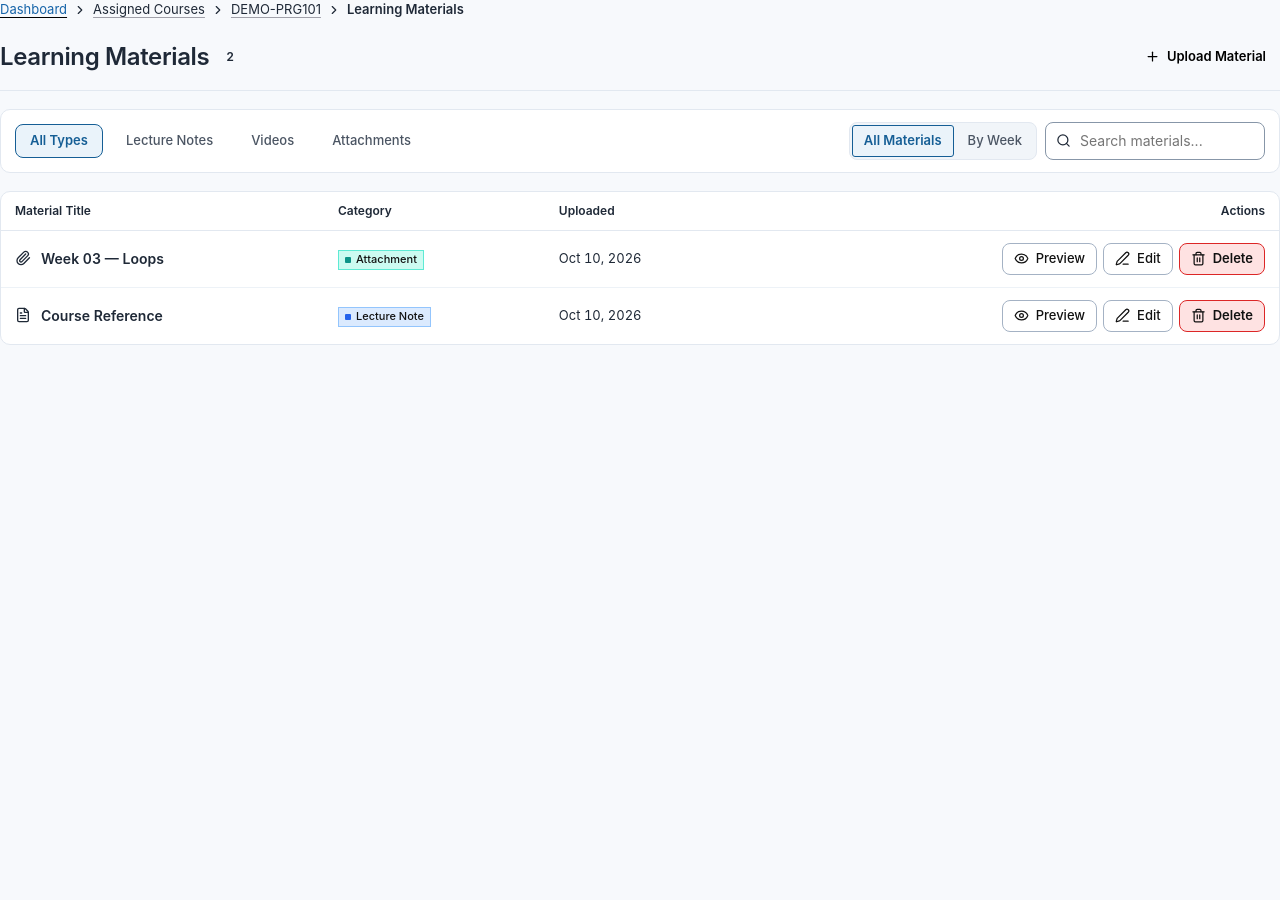
Test: Instructor Workspace Modules (I01 - I05) › groups materials within a course while preserving instructor search and editing
expect the button "Week 03 — Loops" is shown: met, box [41, 248, 164, 269]
Click the button "By Week" at (995, 140), box [956, 124, 1034, 156]
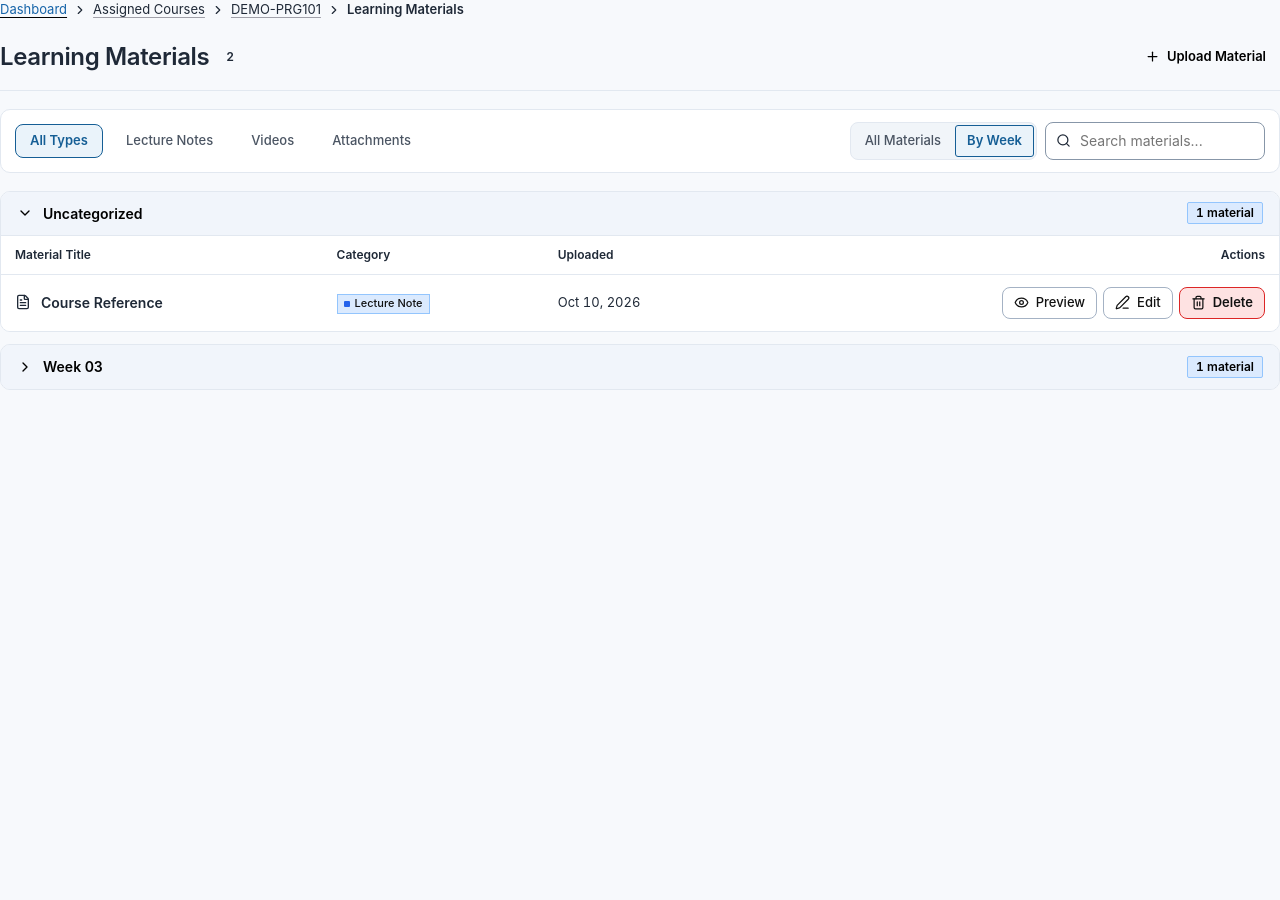
Type "Reference" into the field with placeholder "Search materials..." at (1155, 140), box [1045, 122, 1265, 160]
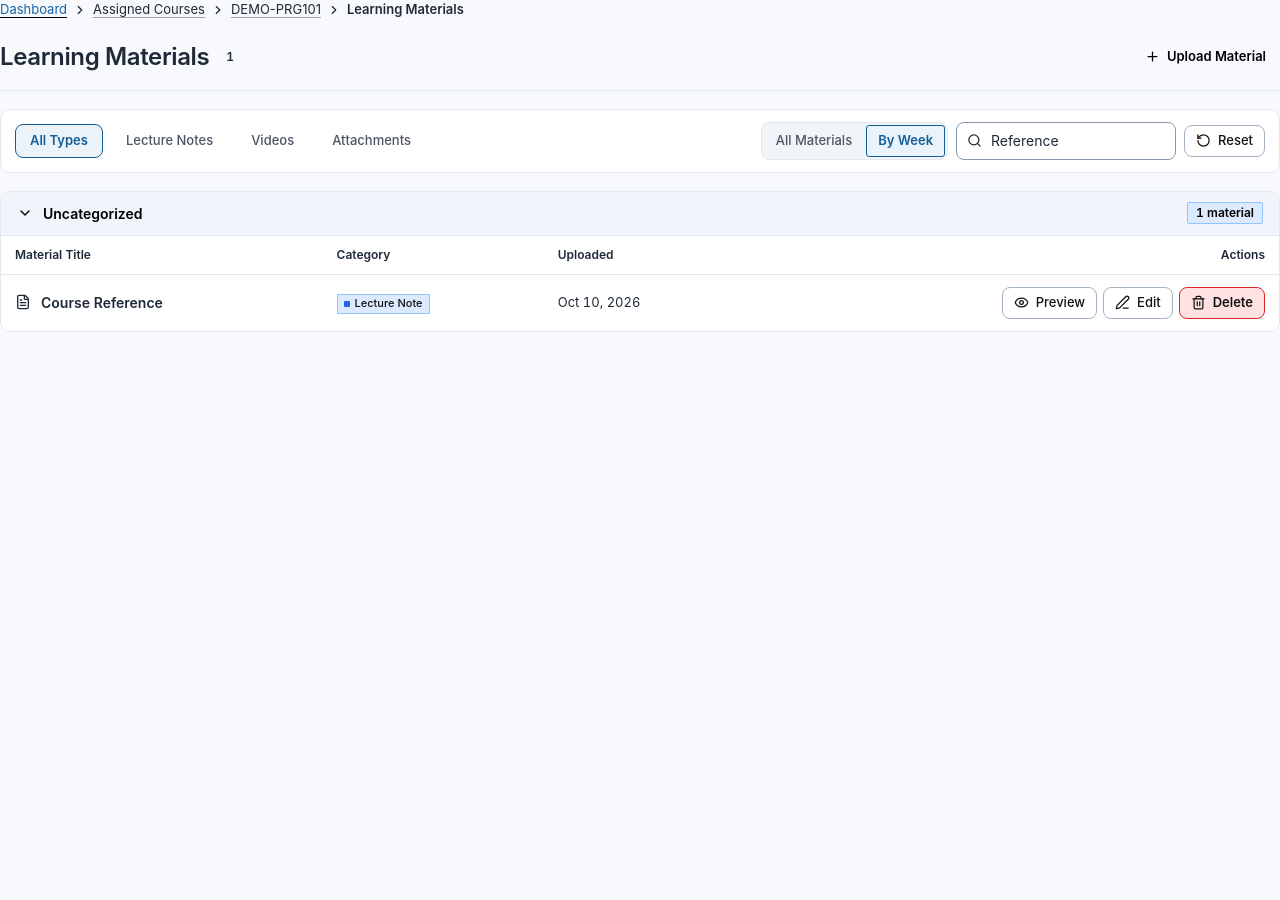
expect the button "Course Reference" is shown: met, box [41, 292, 163, 313]
expect the heading "Week 03" is gone: met
Click the button "Edit" at (1138, 302), box [1103, 286, 1173, 318]
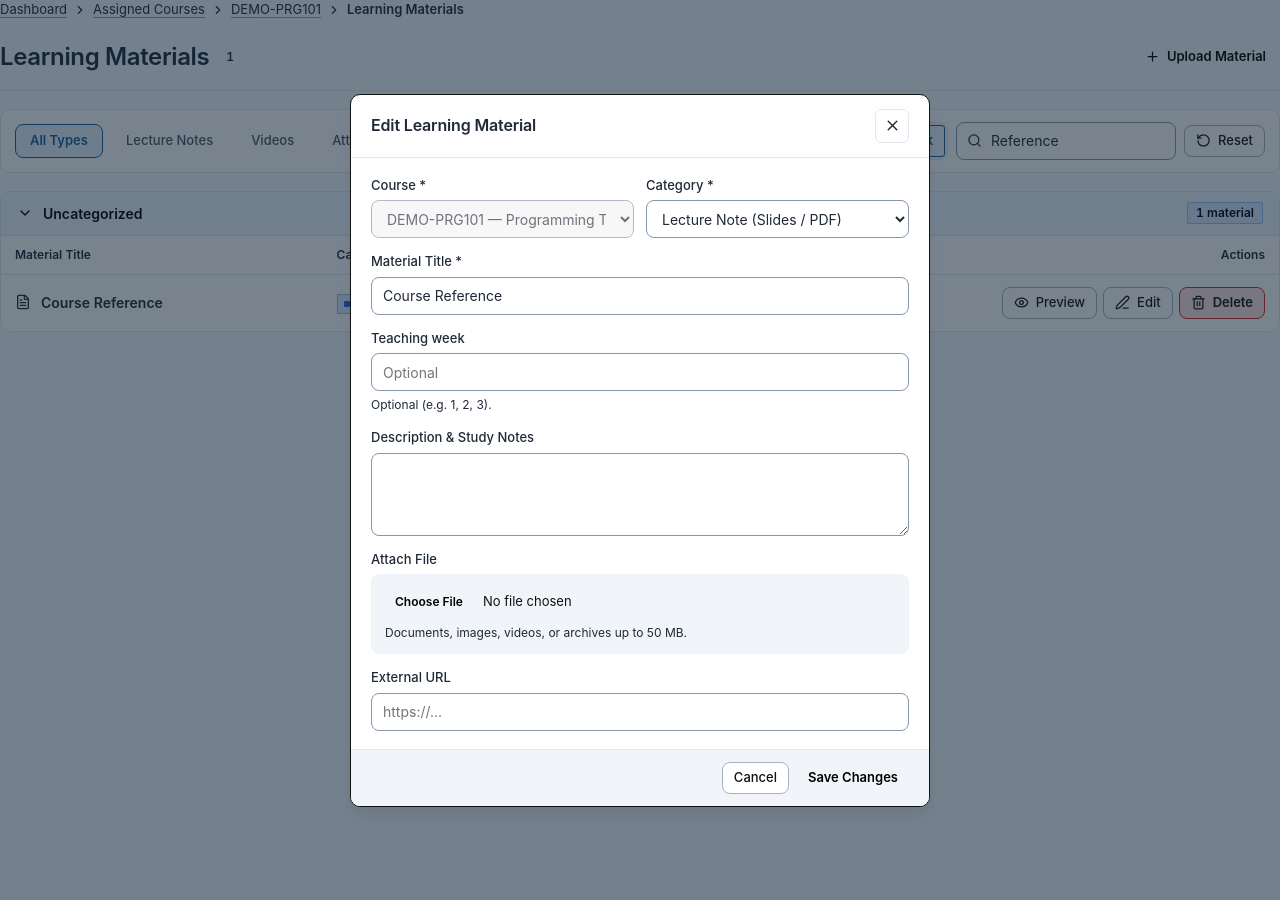
expect the field labelled "Material Title *" holds "Course Reference": met, box [371, 276, 909, 314]
Type "4" into the number field labelled "Teaching week" at (640, 372), box [371, 353, 909, 391]
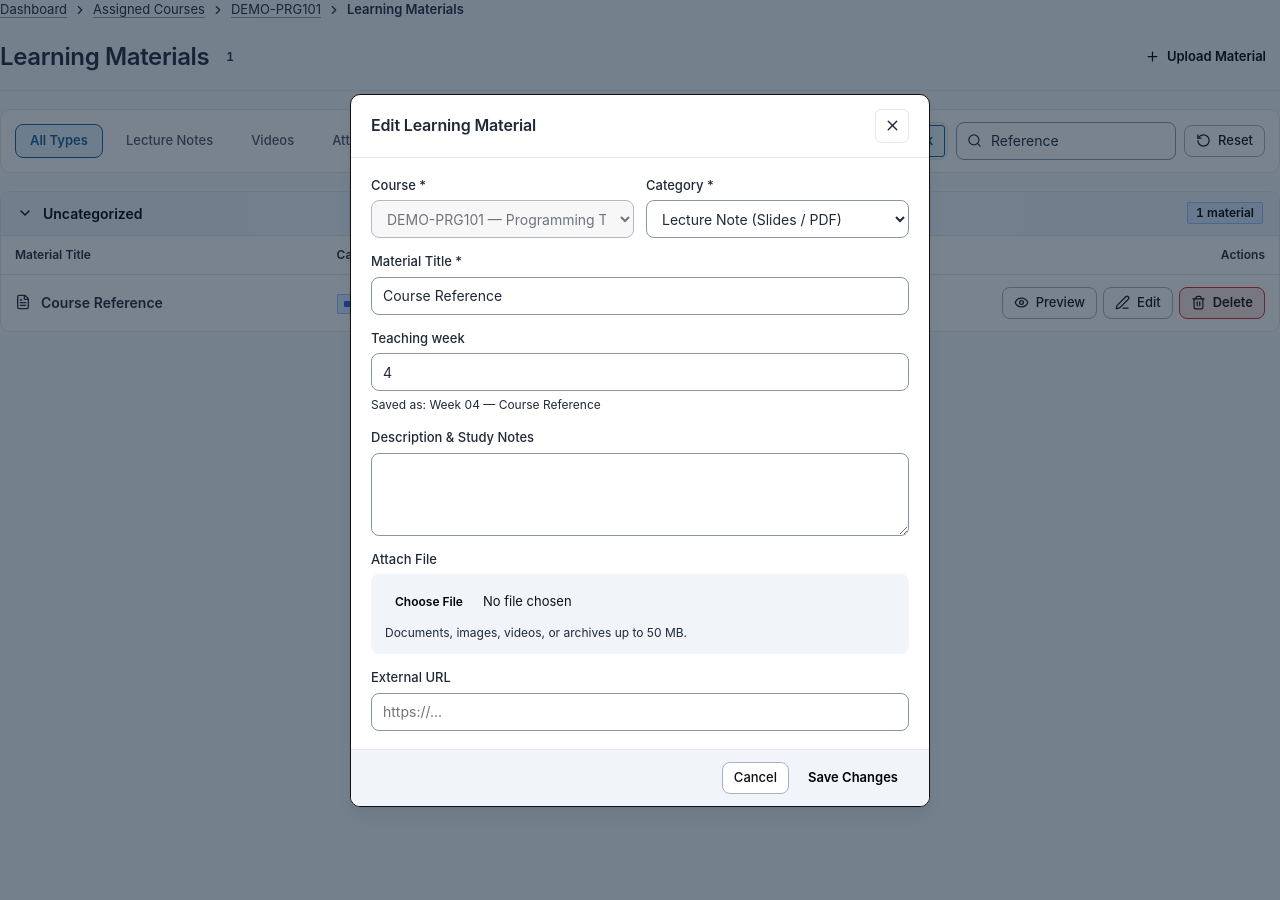
Click the button "Save Changes" at (853, 778), box [797, 762, 909, 794]
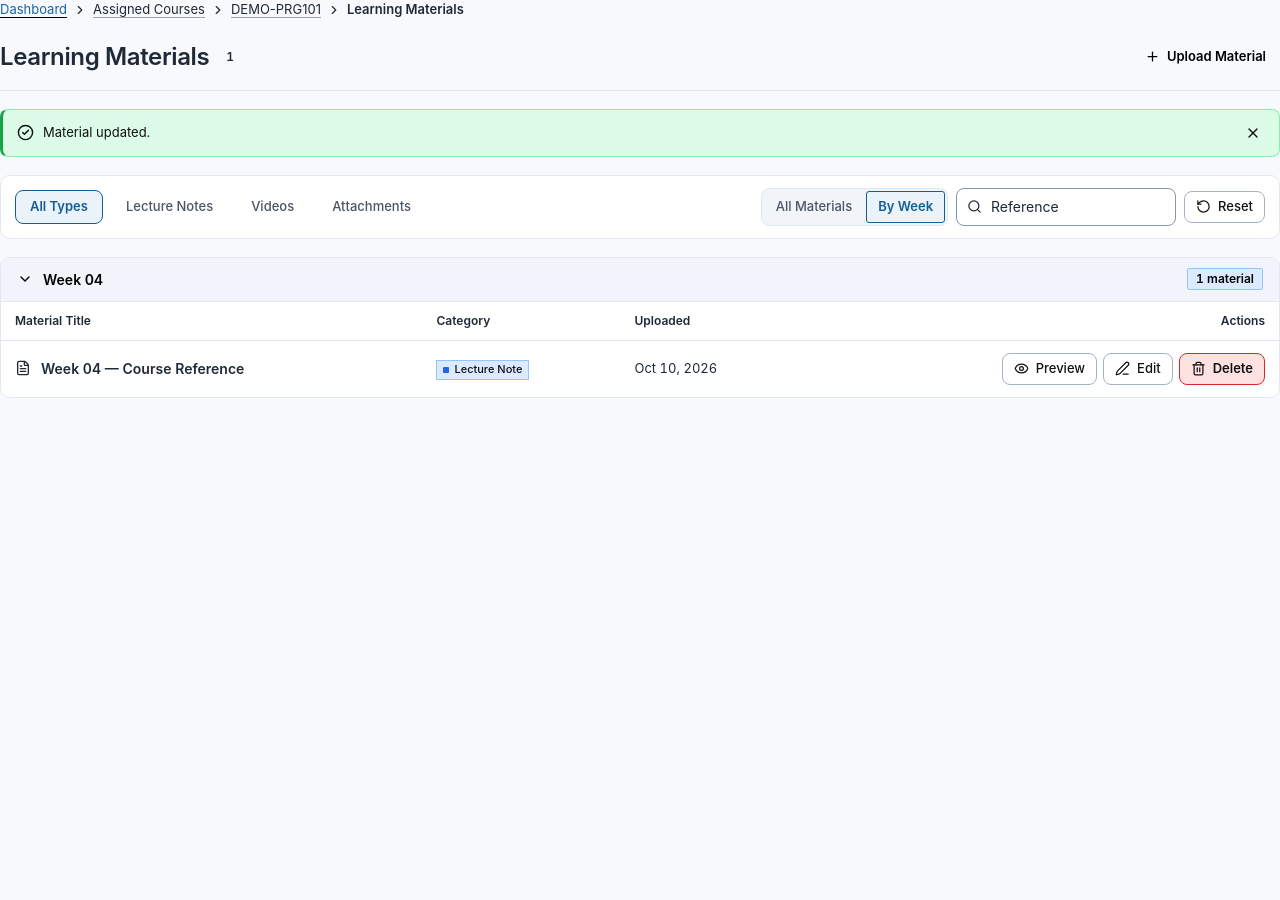
expect the text "Week 04" is shown: met, box [43, 268, 103, 290]
expect the button "Week 04 — Course Reference" is shown: met, box [41, 358, 244, 379]
